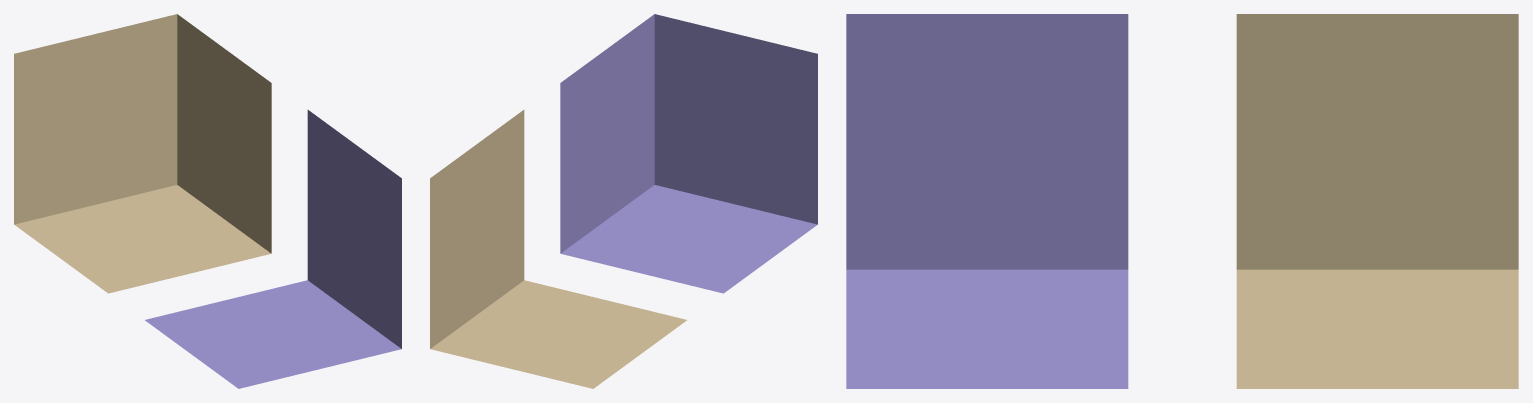
Rendered from test-room-2.glb.
The picture shows the model from 3 angles, left to right: view 1: azimuth 30°, elevation 25°; view 2: azimuth 150°, elevation 25°; view 3: azimuth 270°, elevation 25°; orthographic projection. The views are drawn at different scales.
Visible parts, largest first — view 1: Col.1, Col.0; view 2: Col.0, Col.1; view 3: Col.0, Col.1.
Boxes of the visible parts, bbox=[...] form: Col.1: bbox=[14, 14, 271, 293]; Col.0: bbox=[145, 110, 401, 388]; Col.0: bbox=[560, 14, 817, 293]; Col.1: bbox=[430, 110, 686, 388]; Col.0: bbox=[846, 14, 1128, 388]; Col.1: bbox=[1236, 14, 1518, 388].
Bounding box in the file's own units: 8.48 × 8.48 × 20.22.
